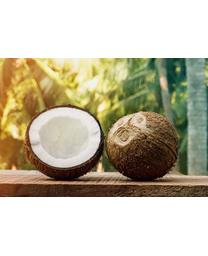coconut: (26, 104, 104, 180), (106, 109, 181, 181)
